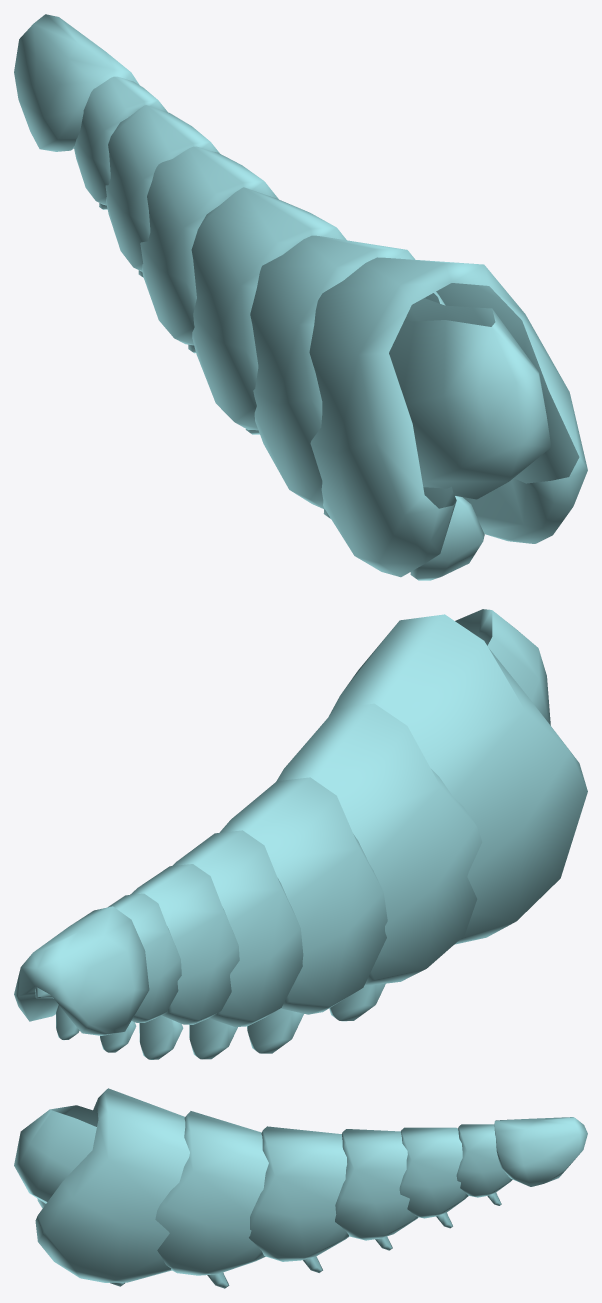
File: Shrimp_Tail_Cherry_LOD1.fbx
3 views of the same model, one above another, from view 1: azimuth 30°, elevation 25°; view 2: azimuth 150°, elevation 25°; view 3: azimuth 270°, elevation 25° (orthographic). The views are drawn at different scales.
Visible parts, largest first — view 1: Ch.Tail_low.001_LOD1, Ch.guts_low_LOD1, Ch.Tail_low.002_LOD1, Ch.Tail_low.003_LOD1, Ch.Tail_low.004_LOD1, Ch.Tail_end_low_LOD1, Ch.Tail_low.005_LOD1, Ch.Tail_low.006_LOD1, Ch.swimeret_low.001_LOD1; view 2: Ch.Tail_low.001_LOD1, Ch.Tail_low.002_LOD1, Ch.Tail_low.003_LOD1, Ch.Tail_low.004_LOD1, Ch.Tail_end_low_LOD1, Ch.Tail_low.005_LOD1, Ch.Tail_low.006_LOD1, Ch.guts_low_LOD1, Ch.swimeret_low.003_LOD1, Ch.swimeret_low.004_LOD1, Ch.swimeret_low.005_LOD1, Ch.swimeret_low.002_LOD1; view 3: Ch.Tail_low.001_LOD1, Ch.Tail_low.002_LOD1, Ch.Tail_low.003_LOD1, Ch.Tail_low.004_LOD1, Ch.guts_low_LOD1, Ch.Tail_end_low_LOD1, Ch.Tail_low.005_LOD1, Ch.Tail_low.006_LOD1.
Part boxes in pixels (x1,y1,x2,y2): Ch.Tail_low.001_LOD1: (309, 257, 587, 577); Ch.guts_low_LOD1: (389, 298, 551, 499); Ch.Tail_low.002_LOD1: (250, 235, 445, 509); Ch.Tail_low.003_LOD1: (191, 187, 346, 430); Ch.Tail_low.004_LOD1: (140, 146, 278, 345); Ch.Tail_end_low_LOD1: (14, 14, 139, 151); Ch.Tail_low.005_LOD1: (105, 105, 219, 271); Ch.Tail_low.006_LOD1: (74, 76, 167, 205); Ch.swimeret_low.001_LOD1: (410, 496, 484, 580); Ch.Tail_low.001_LOD1: (329, 614, 587, 944); Ch.Tail_low.002_LOD1: (276, 703, 482, 985); Ch.Tail_low.003_LOD1: (219, 777, 387, 1014); Ch.Tail_low.004_LOD1: (172, 830, 303, 1027); Ch.Tail_end_low_LOD1: (14, 906, 149, 1035); Ch.Tail_low.005_LOD1: (130, 864, 239, 1024); Ch.Tail_low.006_LOD1: (108, 893, 181, 1022); Ch.guts_low_LOD1: (35, 609, 550, 998); Ch.swimeret_low.003_LOD1: (247, 1008, 303, 1053); Ch.swimeret_low.004_LOD1: (189, 1018, 237, 1059); Ch.swimeret_low.005_LOD1: (139, 1015, 183, 1059); Ch.swimeret_low.002_LOD1: (329, 983, 385, 1021); Ch.Tail_low.001_LOD1: (35, 1088, 189, 1282); Ch.Tail_low.002_LOD1: (155, 1111, 268, 1275); Ch.Tail_low.003_LOD1: (249, 1126, 348, 1261); Ch.Tail_low.004_LOD1: (335, 1129, 418, 1240); Ch.guts_low_LOD1: (14, 1105, 98, 1203); Ch.Tail_end_low_LOD1: (494, 1117, 587, 1186); Ch.Tail_low.005_LOD1: (399, 1127, 468, 1218); Ch.Tail_low.006_LOD1: (456, 1124, 512, 1197).
Size of the model in its own units: 33.12 by 53.72 by 143.
